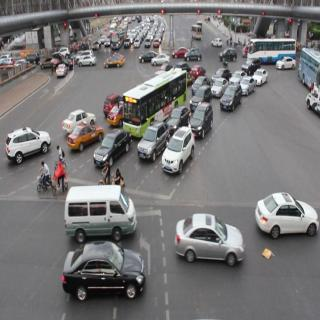BigCar: (122, 67, 188, 134), (248, 38, 298, 62)
Car: (64, 236, 146, 312), (174, 213, 243, 280), (64, 183, 138, 240), (252, 197, 320, 242), (0, 124, 54, 165), (165, 127, 195, 178), (91, 125, 125, 168), (137, 120, 166, 168), (190, 100, 213, 143), (224, 76, 241, 122), (72, 124, 98, 149), (78, 52, 97, 82), (104, 53, 126, 75), (279, 56, 299, 78)
